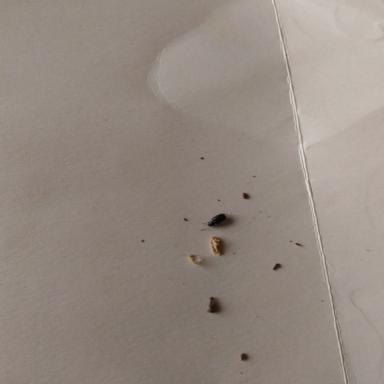pbw: (210, 236, 220, 255)
